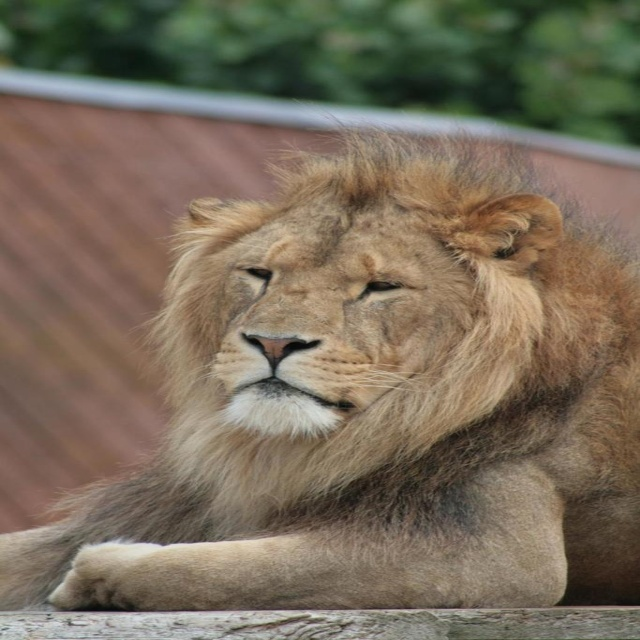Lion: (0, 99, 639, 609)
